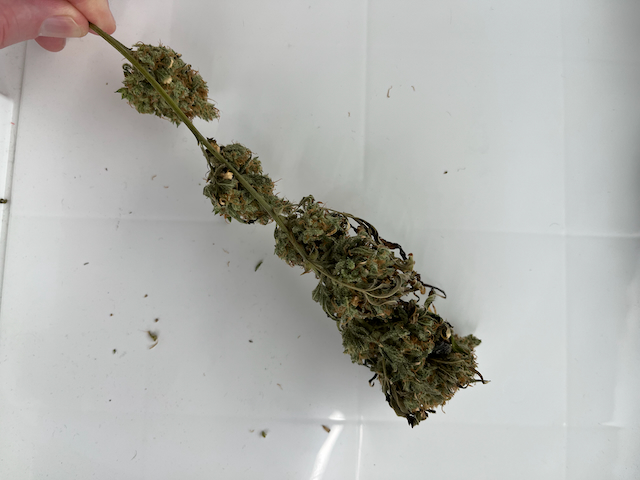Bud: (353, 308, 481, 419), (114, 42, 219, 127), (319, 235, 402, 315), (203, 144, 276, 223), (272, 196, 350, 265)
Leaf: (353, 207, 410, 254), (421, 274, 449, 302), (298, 192, 314, 208), (160, 71, 173, 89), (214, 193, 228, 208), (165, 51, 175, 71), (219, 170, 233, 181)
Leaf-Attachment: (352, 283, 376, 299), (377, 363, 395, 384)
Stem: (138, 58, 210, 150), (85, 18, 143, 87)
